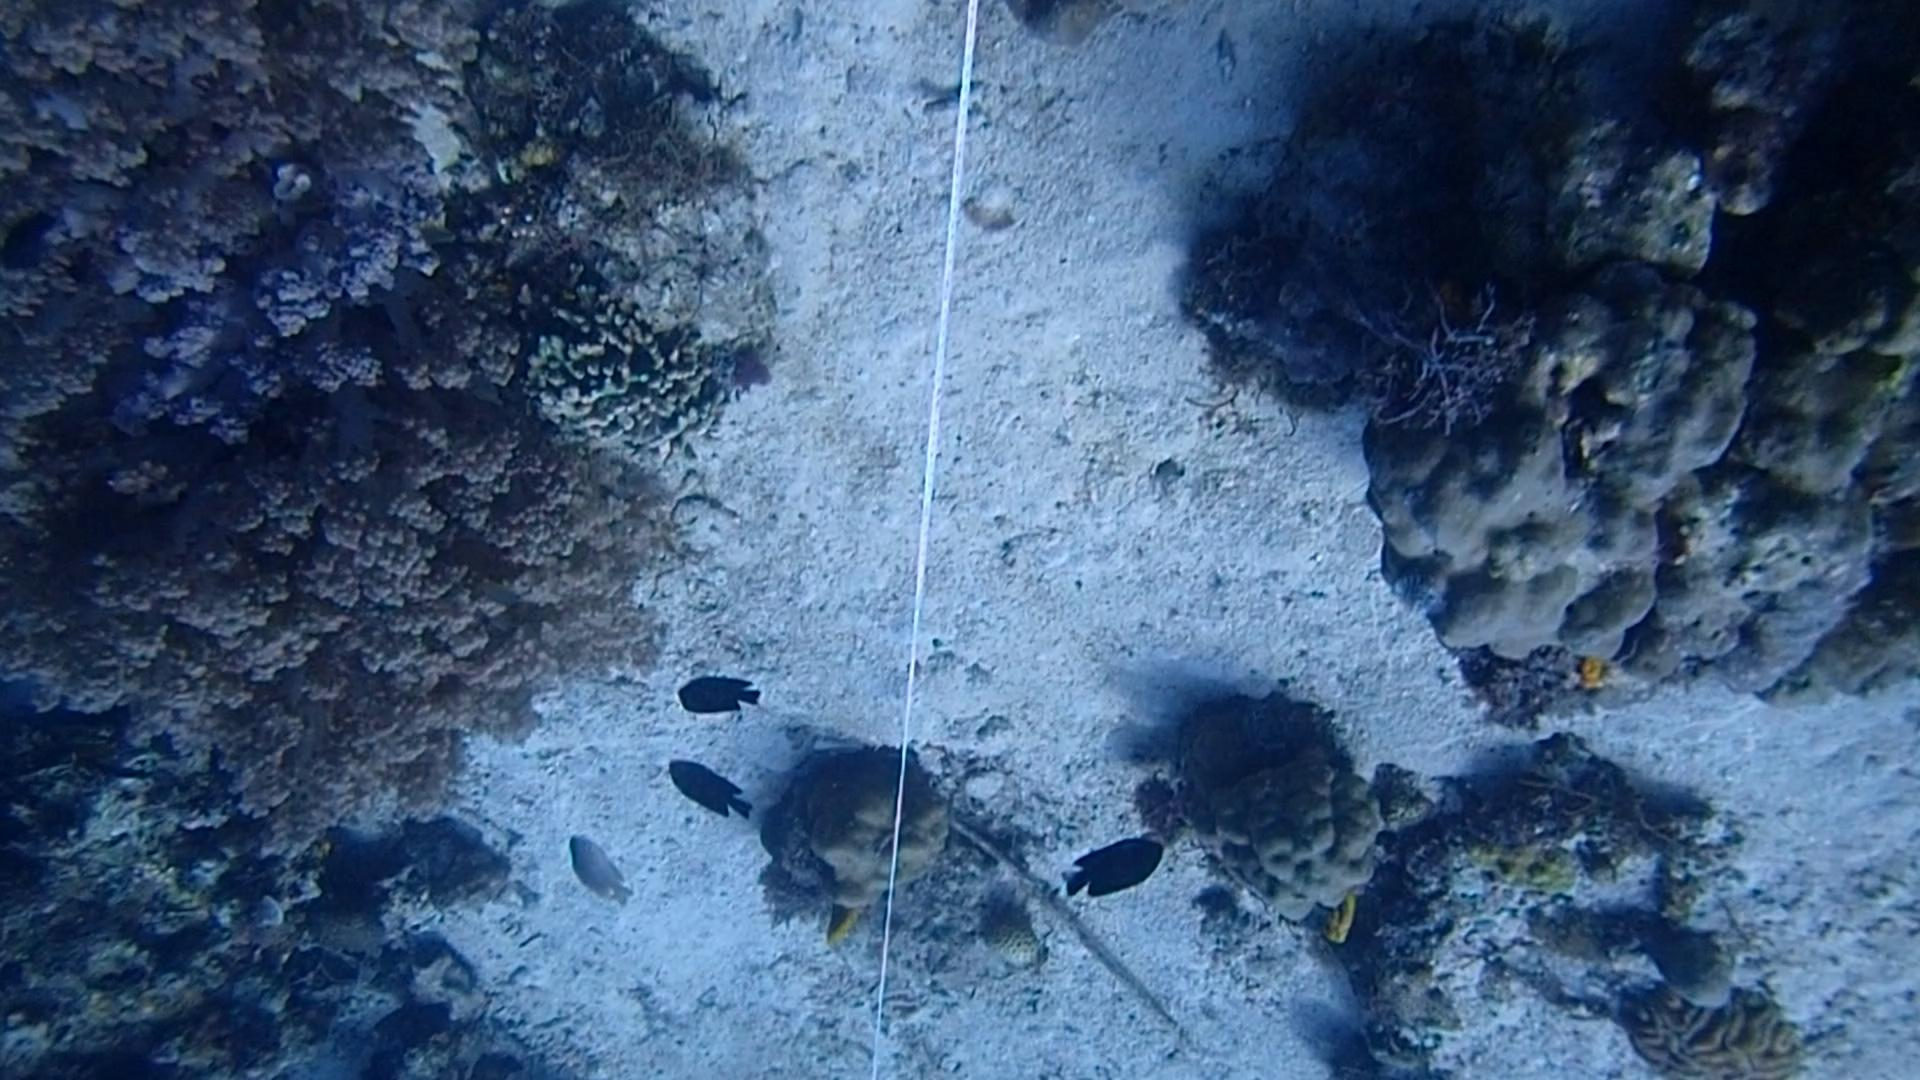Dark Fish: (1063, 835, 1168, 911), (661, 749, 758, 828), (674, 667, 769, 723), (0, 204, 62, 270)
Light Fish: (555, 825, 640, 915)
